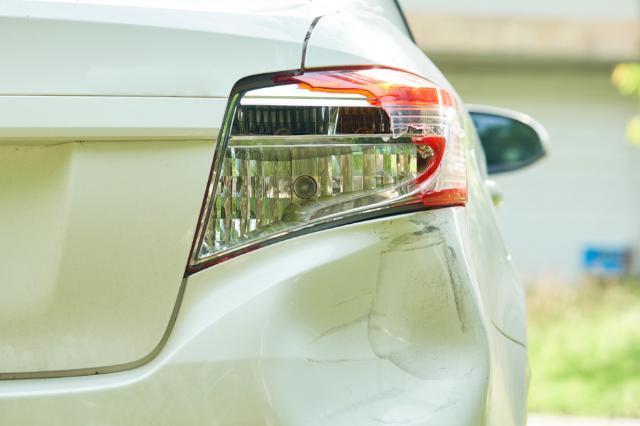Bumper: (357, 214, 489, 383)
Light: (208, 73, 453, 219)
